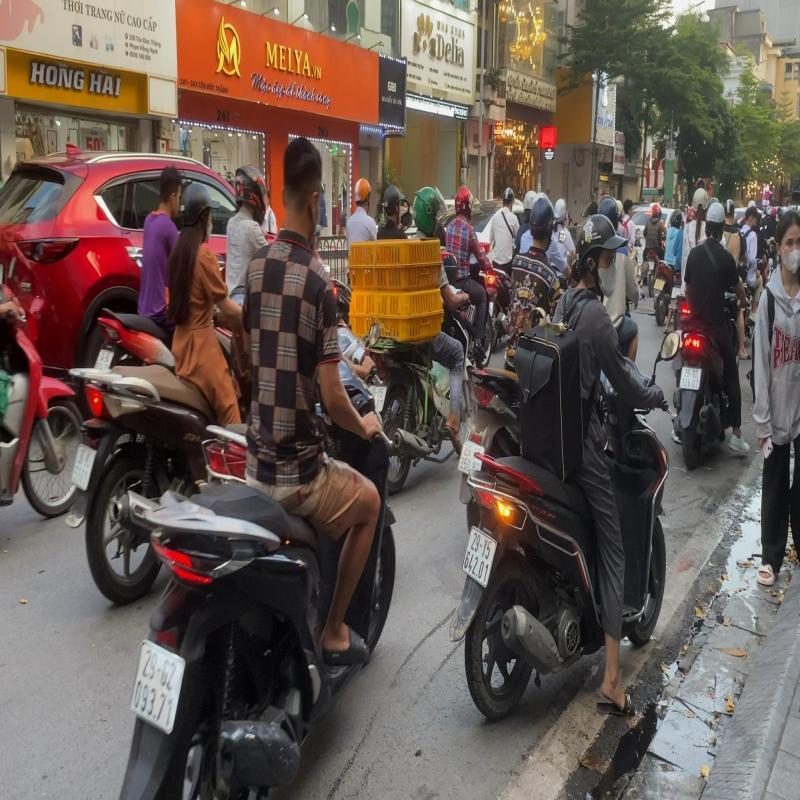licenseplate: (129, 639, 184, 734)
motorcyclist: (115, 130, 400, 800)
nohelmet: (281, 135, 322, 230)
